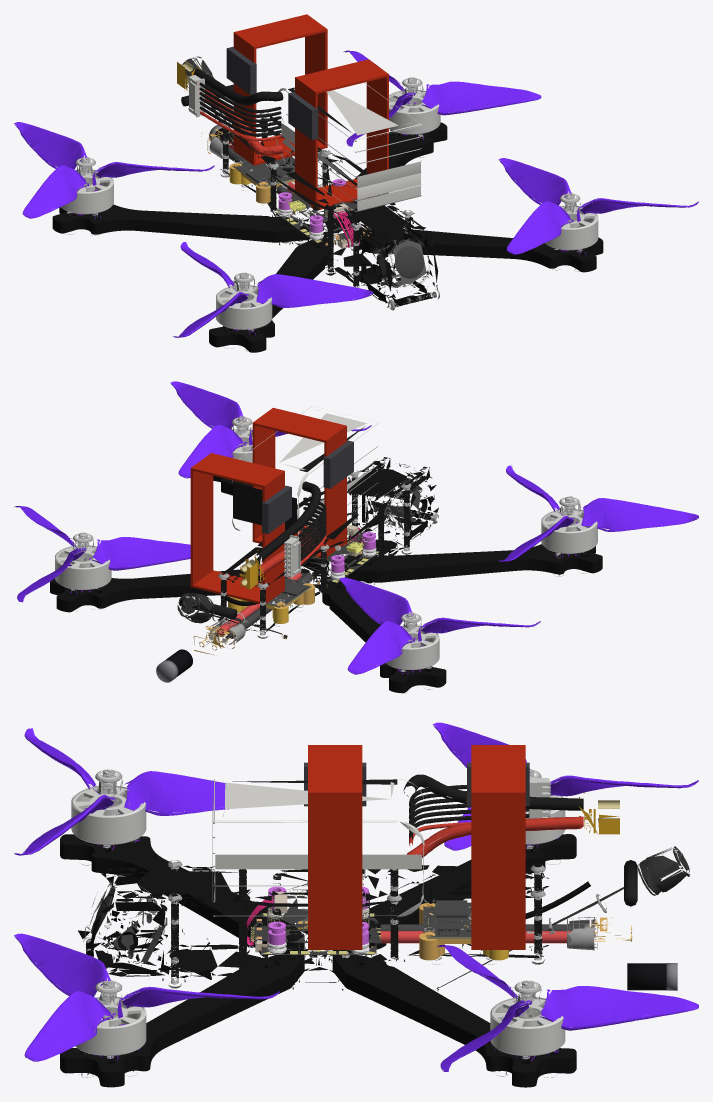
Rendered from fpv5.glb.
3 renders of one model, top to bottom at view 1: azimuth 30°, elevation 25°; view 2: azimuth 150°, elevation 25°; view 3: azimuth 270°, elevation 25°, orthographic. The views are drawn at different scales.
Parts seen in each view (by area): view 1: bateria__0__m0, frame_carbono__0__m1, helice__4__m0, helice__2__m0, helice__3__m0, helice__1__m0, braco__4__m0, bateria__0__m1, braco__4__m1, braco__3__m0, braco__2__m0, braco__2__m1 (+23 smaller); view 2: braco__3__m0, helice__4__m0, frame_carbono__0__m1, helice__3__m0, helice__1__m0, bateria__0__m1, braco__1__m0, helice__2__m0, _MeshInstance3D_54, motor__3__m3, motor__1__m3, _MeshInstance3D_61 (+20 smaller); view 3: frame_carbono__0__m1, _MeshInstance3D_59, _MeshInstance3D_54, braco__1__m0, helice__2__m0, helice__1__m0, bateria__0__m0, helice__3__m0, braco__3__m0, braco__2__m1, braco__2__m0, bateria__0__m1 (+27 smaller).
Boxes of the visible parts, x1,y1,x2,y2 form: bateria__0__m0: [276, 82, 421, 211]; frame_carbono__0__m1: [220, 116, 437, 307]; helice__4__m0: [14, 122, 214, 218]; helice__2__m0: [498, 158, 698, 254]; helice__3__m0: [173, 242, 372, 337]; helice__1__m0: [343, 50, 541, 146]; braco__4__m0: [52, 207, 309, 242]; bateria__0__m1: [193, 68, 352, 136]; braco__4__m1: [53, 204, 309, 231]; braco__3__m0: [209, 237, 327, 352]; braco__2__m0: [348, 232, 603, 272]; braco__2__m1: [345, 227, 602, 261]; braco__3__m0: [345, 544, 602, 582]; helice__4__m0: [339, 577, 540, 674]; frame_carbono__0__m1: [217, 457, 438, 632]; helice__3__m0: [498, 465, 698, 561]; helice__1__m0: [14, 506, 190, 602]; bateria__0__m1: [233, 426, 365, 561]; braco__1__m0: [50, 568, 309, 612]; helice__2__m0: [170, 381, 371, 478]; _MeshInstance3D_54: [190, 468, 213, 587]; motor__3__m3: [541, 508, 597, 553]; motor__1__m3: [55, 545, 111, 589]; _MeshInstance3D_61: [252, 407, 346, 442]; frame_carbono__0__m1: [78, 862, 548, 990]; _MeshInstance3D_59: [308, 791, 362, 949]; _MeshInstance3D_54: [471, 791, 525, 949]; braco__1__m0: [332, 953, 576, 1087]; helice__2__m0: [14, 933, 279, 1061]; helice__1__m0: [436, 944, 698, 1071]; bateria__0__m0: [212, 779, 424, 916]; helice__3__m0: [14, 728, 228, 855]; braco__3__m0: [60, 834, 304, 953]; braco__2__m1: [60, 953, 304, 1072]; braco__2__m0: [60, 956, 304, 1087]; bateria__0__m1: [232, 774, 583, 839].
Bounding box in the file's own units: 0.2966 × 0.0993 × 0.2521.
